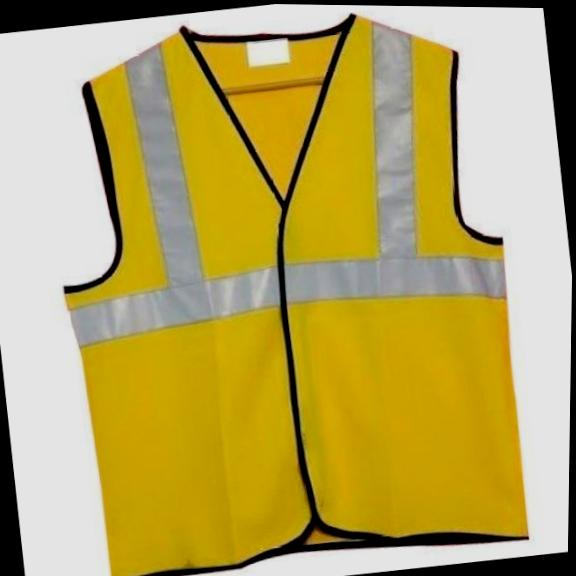safety_vest: (25, 1, 541, 576)
